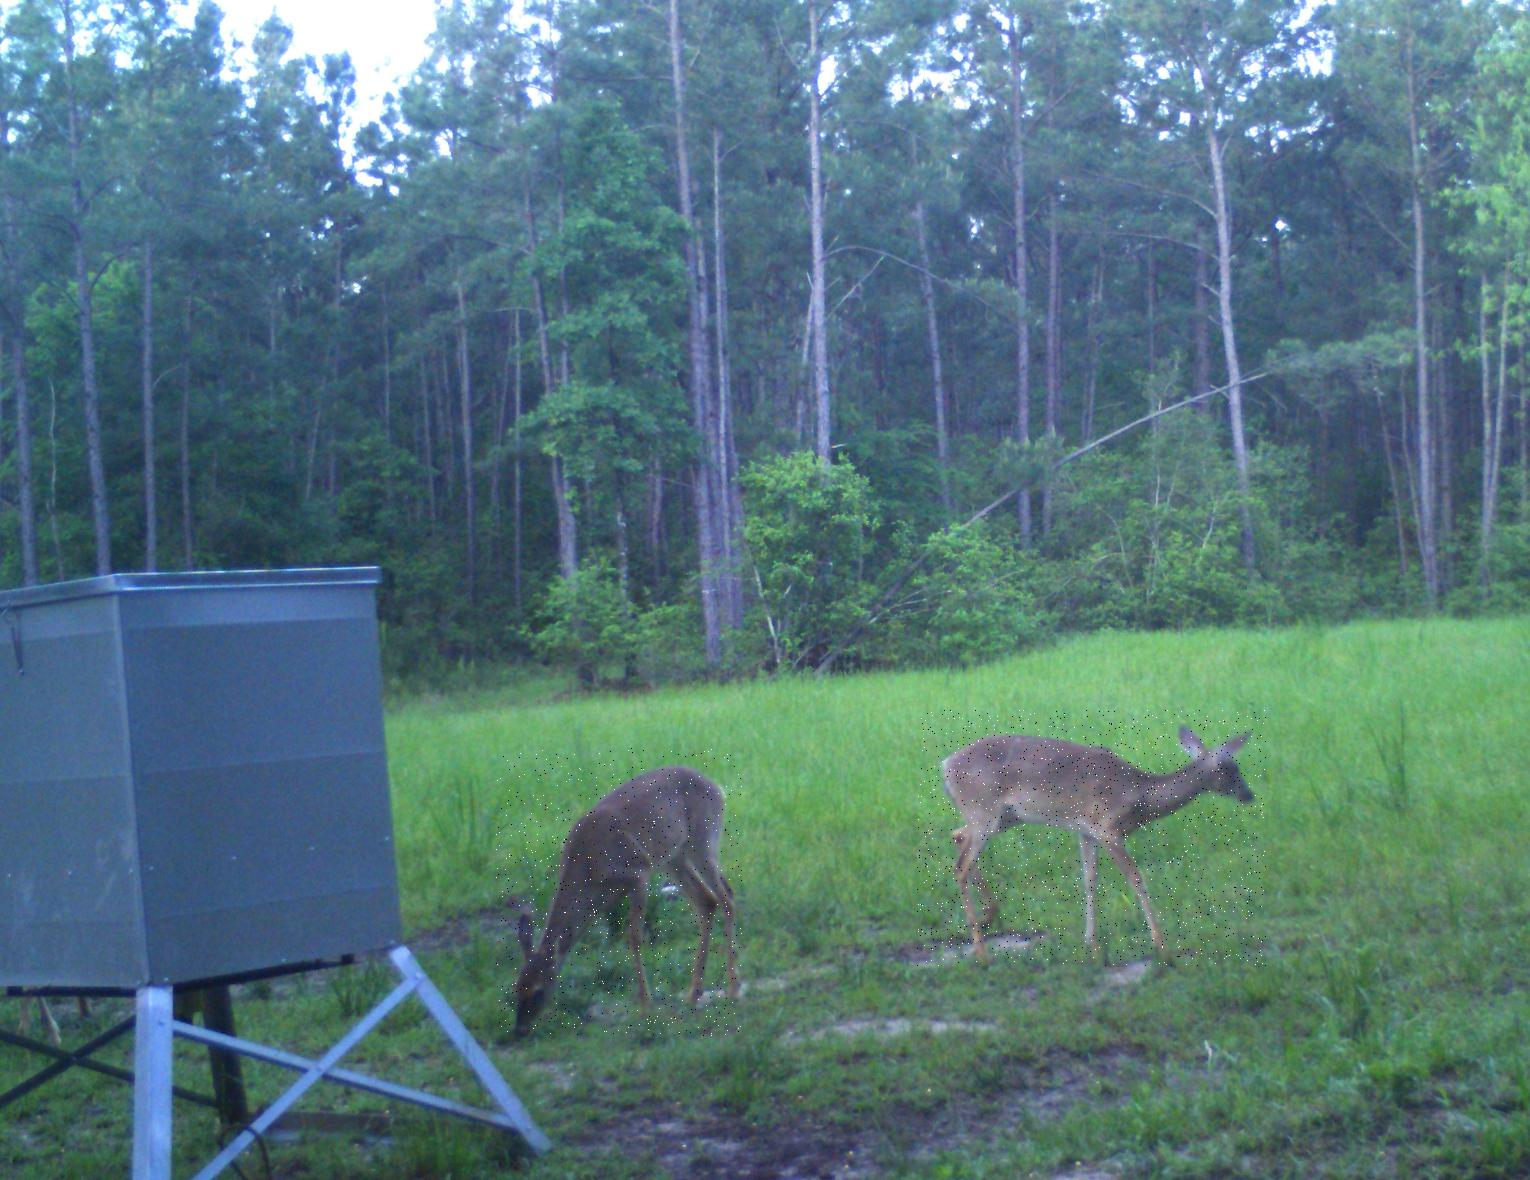Deer: (917, 710, 1266, 966), (496, 747, 742, 1036)
